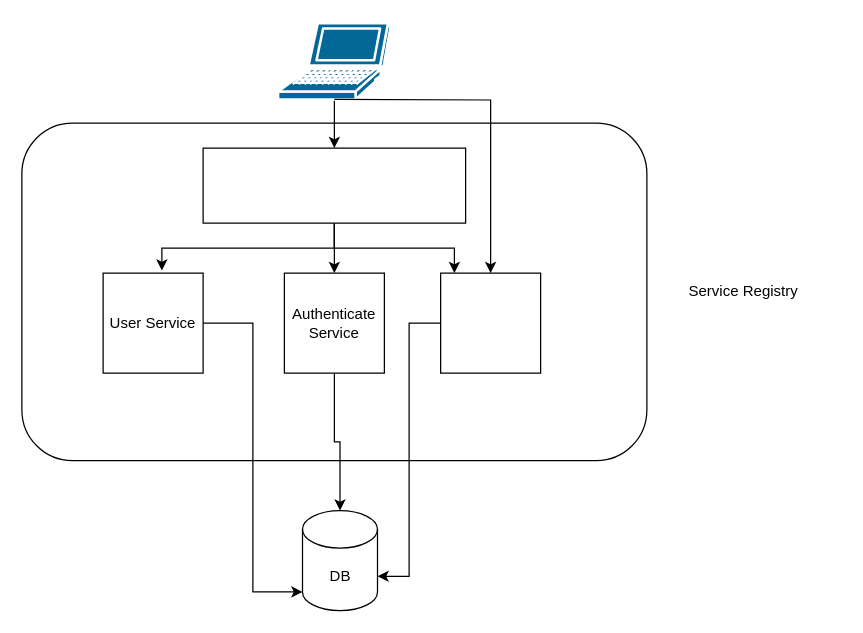
Some shapes in this 863 by 633 pixel diagram are drawn without their labels. The centre of each missing label's shape, as x and y in pixels:
"API Gateway" goes at point (334, 185).
"Donar Service" goes at point (490, 322).
